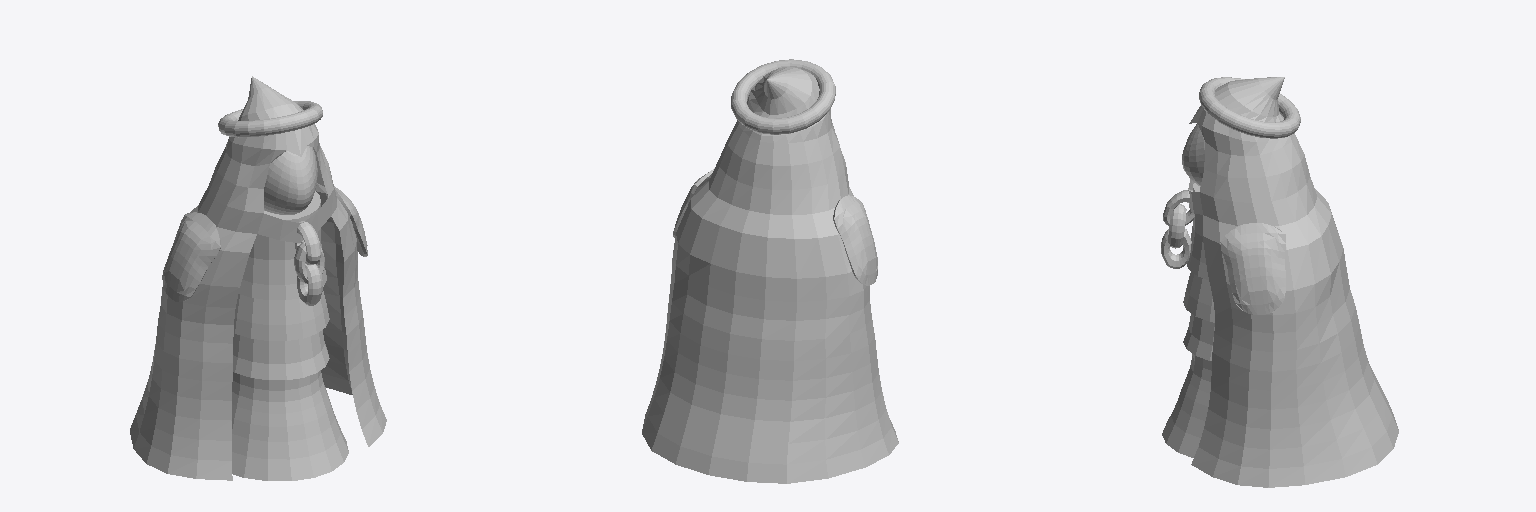
File: Boss.obj
3 views of the same model, side by side, from view 1: azimuth 30°, elevation 25°; view 2: azimuth 150°, elevation 25°; view 3: azimuth 270°, elevation 25° (orthographic).
Visible parts, largest first — view 1: polySurface1; view 2: polySurface1; view 3: polySurface1.
Boxes of the visible parts, x1=… form: polySurface1: x1=130, y1=76, x2=386, y2=480; polySurface1: x1=642, y1=59, x2=898, y2=483; polySurface1: x1=1161, y1=77, x2=1398, y2=487.
Bounding box in the file's own units: 2.69 × 3.98 × 2.41.